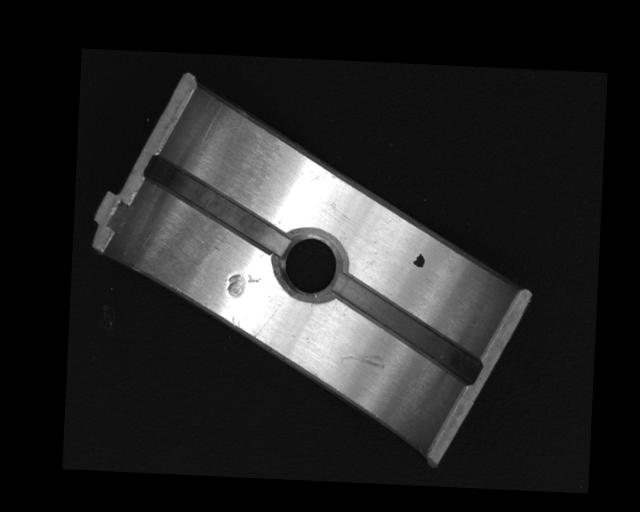blot: (412, 252, 425, 268)
bruise: (225, 271, 262, 300)
gap: (333, 273, 483, 384), (143, 156, 291, 253)
hole: (275, 227, 344, 303)
nick: (337, 351, 386, 370)
